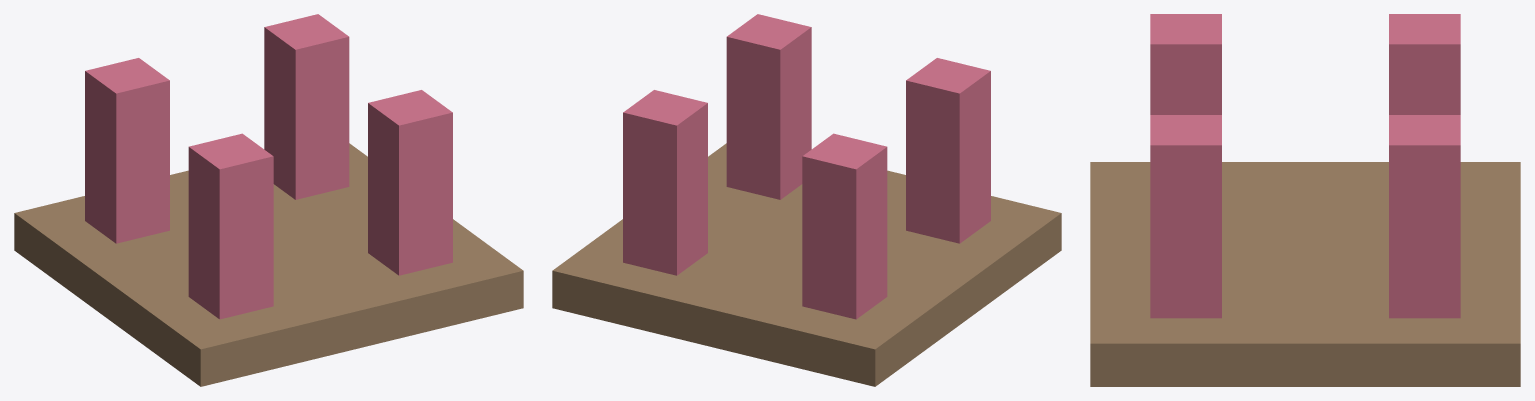
Rendered from Prop_DS_Crop_Bitroot.glb.
The picture shows the model from 3 angles, left to right: view 1: azimuth 30°, elevation 25°; view 2: azimuth 150°, elevation 25°; view 3: azimuth 270°, elevation 25°; orthographic projection. The views are drawn at different scales.
Parts seen in each view (by area): view 1: Prop_DS_Crop_Bitroot; view 2: Prop_DS_Crop_Bitroot; view 3: Prop_DS_Crop_Bitroot.
Part boxes in pixels (x1=…): Prop_DS_Crop_Bitroot: x1=14, y1=14, x2=523, y2=386; Prop_DS_Crop_Bitroot: x1=552, y1=14, x2=1061, y2=386; Prop_DS_Crop_Bitroot: x1=1090, y1=14, x2=1520, y2=386.
Size of the model in its own units: 0.9 by 0.5 by 0.9.
